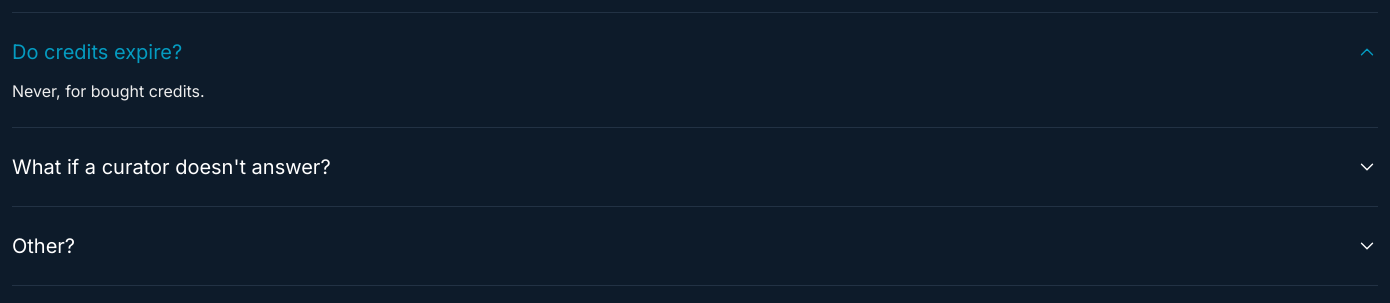
Test case: Faq › closes the open question when clicked again
Click the button "Do credits expire?". click: (97,52)
box: [12,13,1378,79]
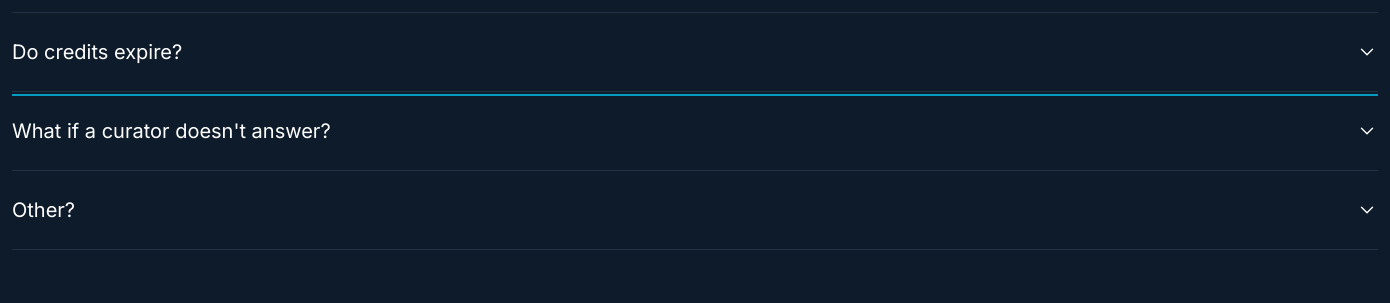
Now the button "Do credits expire?" is collapsed, box [12,13,1378,91]
